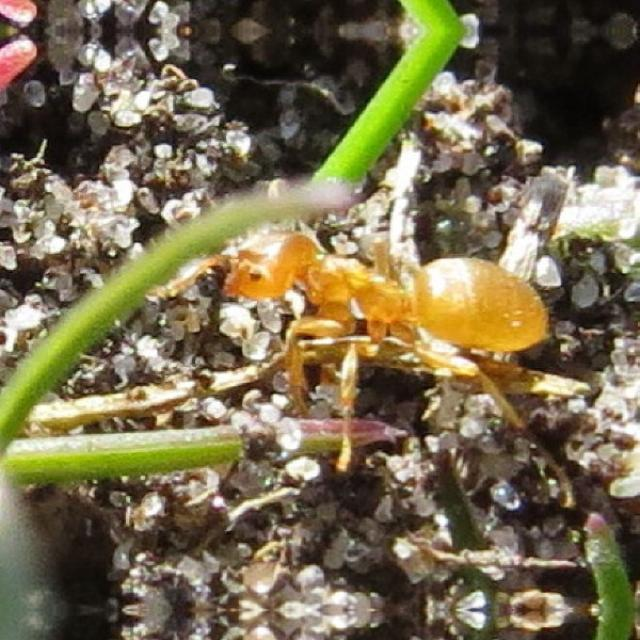Lasius: (170, 162, 598, 426)
